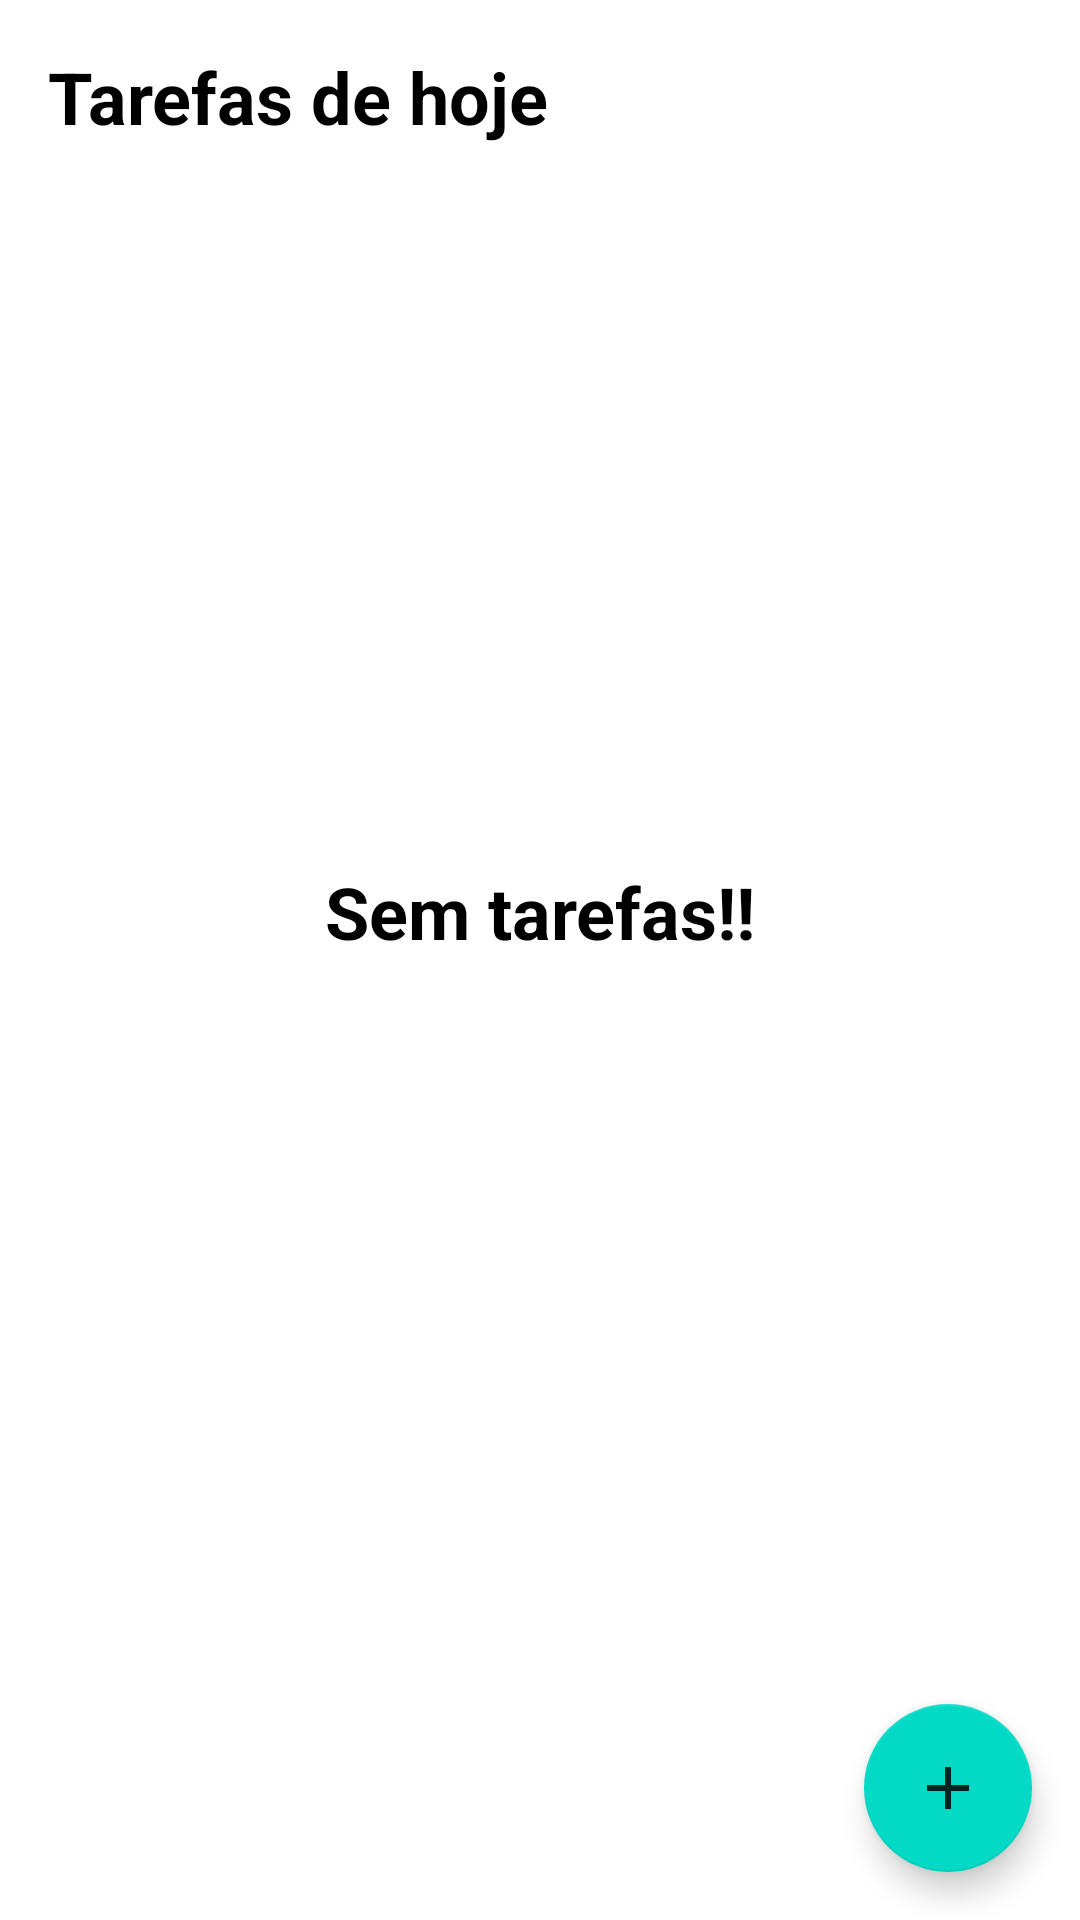

Where to tap for icons on this 1080 x 1920 app screen, as (x,y):
Nova Tarefa: (948,1788)
